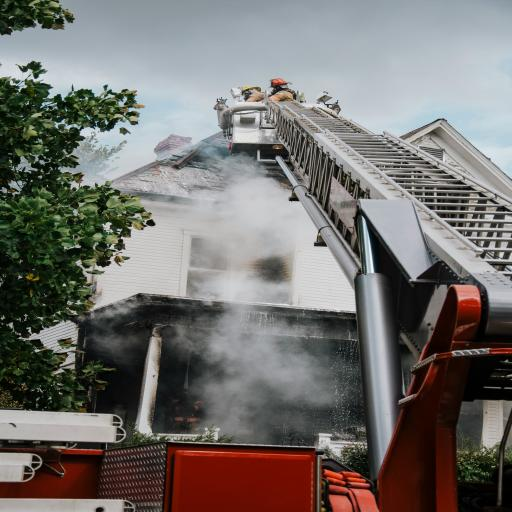smoke: (136, 104, 334, 438)
